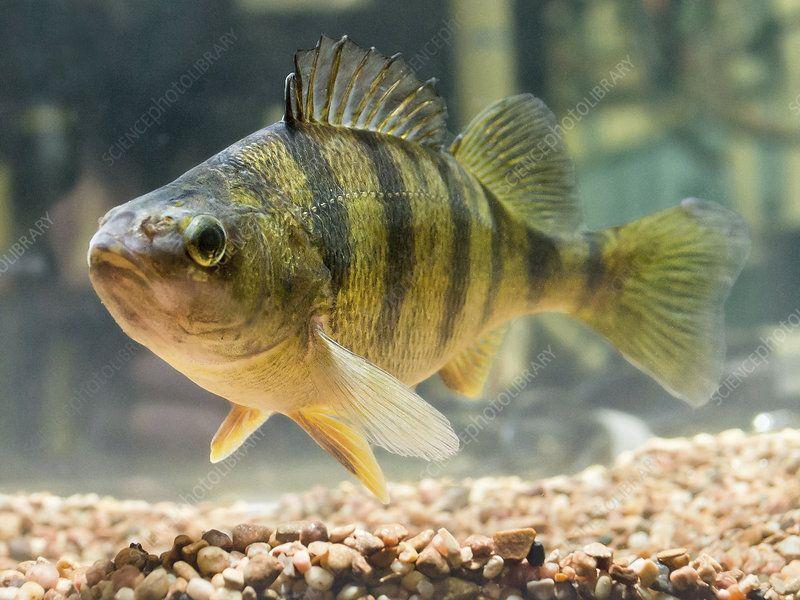Perch: (86, 28, 744, 507)
